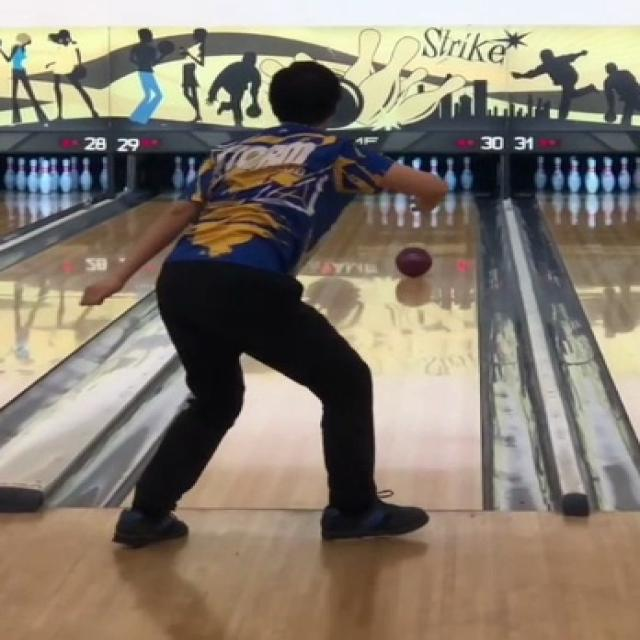alley: (300, 196, 478, 507), (182, 359, 318, 506)
balls: (395, 248, 430, 276)
bottle: (390, 152, 478, 192)
